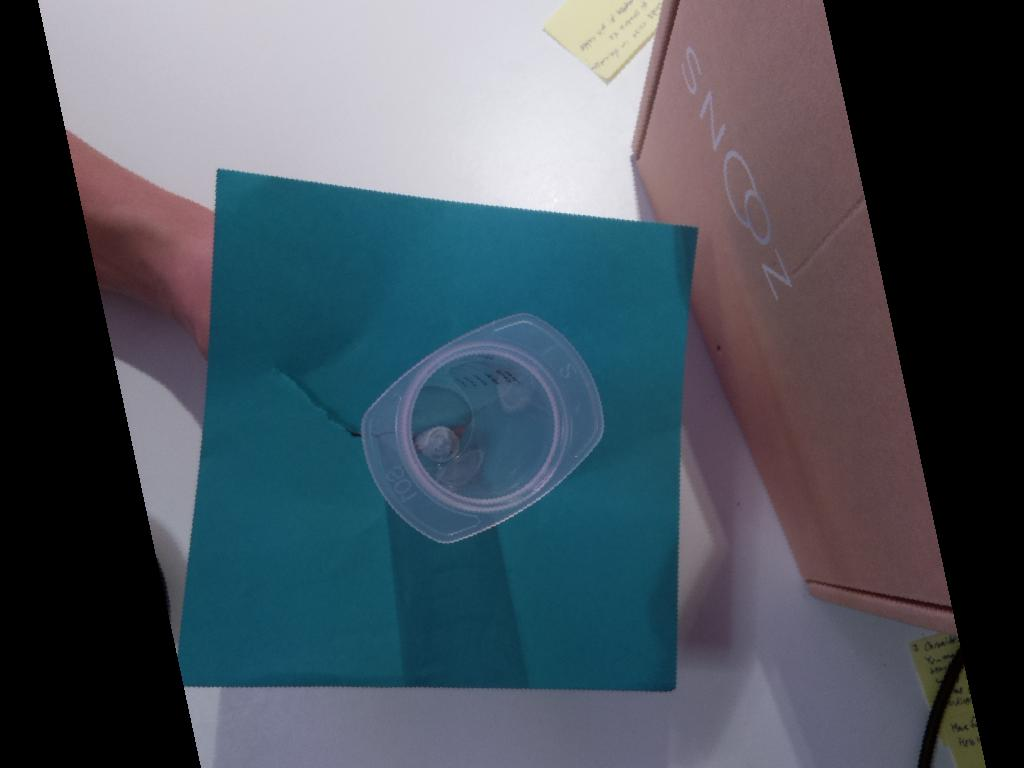clean: (360, 312, 605, 544)
